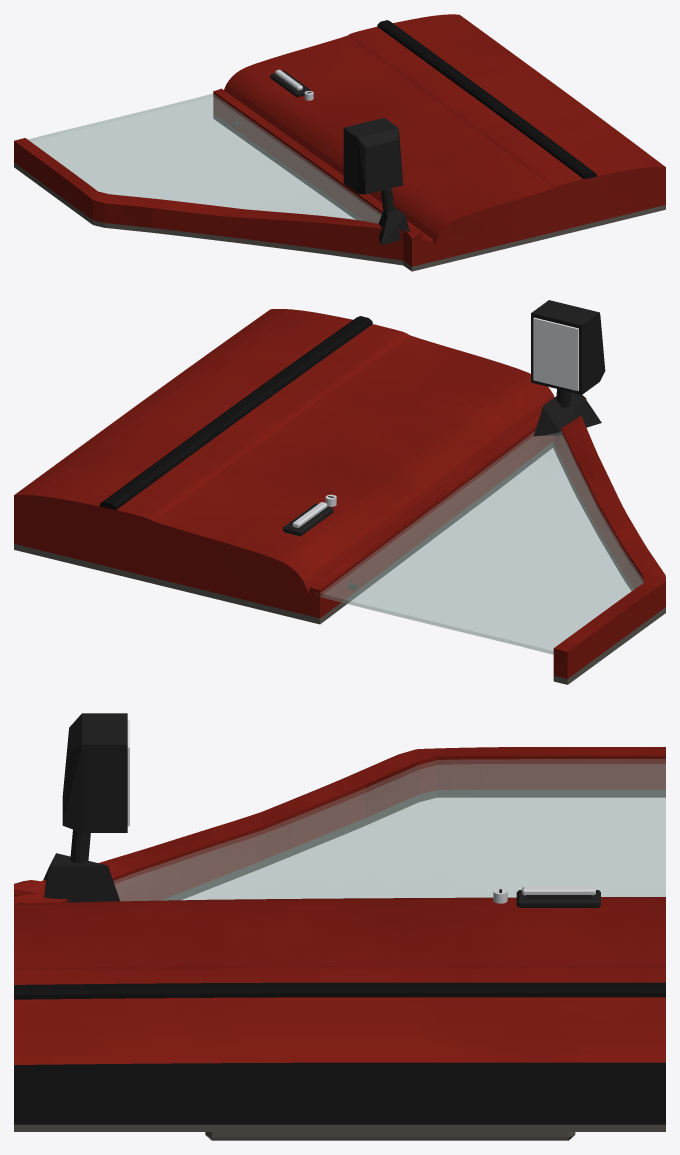
Rendered from porta_dianteira_e_van.glb.
3 renders of one model, top to bottom at view 1: azimuth 30°, elevation 25°; view 2: azimuth 150°, elevation 25°; view 3: azimuth 270°, elevation 25°, orthographic. The views are drawn at different scales.
Visible parts, largest first — view 1: porta_dianteira_e_van_pintura, porta_dianteira_e_van_vidro, porta_dianteira_e_van_1_plastico_preto, porta_dianteira_e_van_forro_porta, porta_dianteira_e_van_borracha; view 2: porta_dianteira_e_van_pintura, porta_dianteira_e_van_vidro, porta_dianteira_e_van_borracha, porta_dianteira_e_van_1_plastico_preto, porta_dianteira_e_van_forro_porta, porta_dianteira_e_van_1_espelho_retrovisor, porta_dianteira_e_van_plastico_preto; view 3: porta_dianteira_e_van_pintura, porta_dianteira_e_van_vidro, porta_dianteira_e_van_chassi, porta_dianteira_e_van_forro_porta, porta_dianteira_e_van_1_plastico_preto, porta_dianteira_e_van_borracha, porta_dianteira_e_van_plastico_preto, porta_dianteira_e_van_cromado.
Part boxes in pixels (x1,y1,x2,y2): porta_dianteira_e_van_pintura: [14, 14, 665, 266]; porta_dianteira_e_van_vidro: [28, 93, 381, 223]; porta_dianteira_e_van_1_plastico_preto: [343, 117, 409, 244]; porta_dianteira_e_van_forro_porta: [14, 114, 665, 271]; porta_dianteira_e_van_borracha: [377, 20, 596, 178]; porta_dianteira_e_van_pintura: [14, 309, 665, 678]; porta_dianteira_e_van_vidro: [316, 431, 643, 654]; porta_dianteira_e_van_borracha: [99, 316, 372, 510]; porta_dianteira_e_van_1_plastico_preto: [531, 300, 605, 436]; porta_dianteira_e_van_forro_porta: [14, 442, 665, 684]; porta_dianteira_e_van_1_espelho_retrovisor: [533, 317, 578, 390]; porta_dianteira_e_van_plastico_preto: [283, 503, 356, 589]; porta_dianteira_e_van_pintura: [14, 747, 665, 1064]; porta_dianteira_e_van_vidro: [114, 759, 665, 901]; porta_dianteira_e_van_chassi: [14, 889, 665, 1124]; porta_dianteira_e_van_forro_porta: [14, 790, 665, 1140]; porta_dianteira_e_van_1_plastico_preto: [43, 713, 127, 902]; porta_dianteira_e_van_borracha: [14, 982, 665, 999]; porta_dianteira_e_van_plastico_preto: [516, 890, 600, 907]; porta_dianteira_e_van_cromado: [493, 886, 595, 903].
Bounding box in the file's own units: 1.25 × 0.3921 × 1.
Materials: 10 (1 with a texture image).
